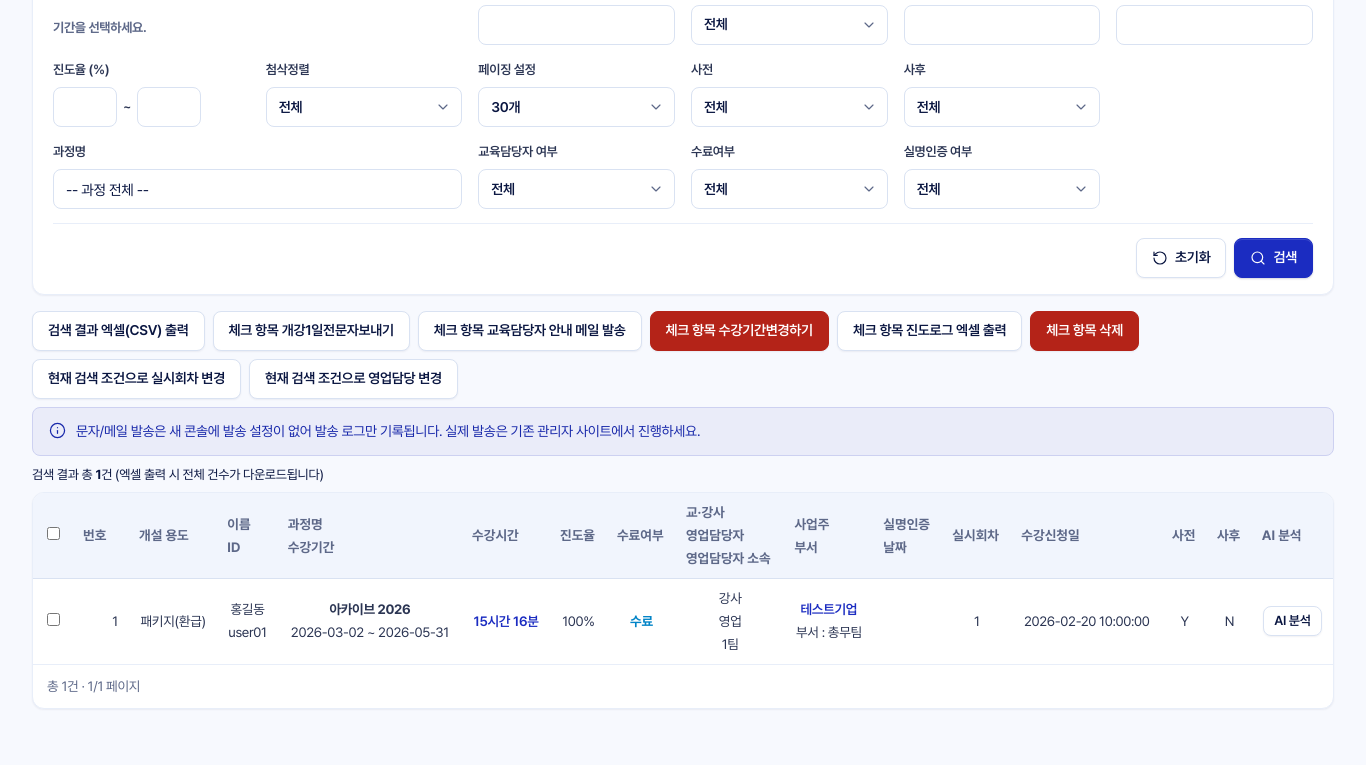
it: 학습관리 verifier fix-ups › 사업주 click opens company_info_pop (B5 endpoint) for an account without A1 — card, 수강 정보, masked 수강생 정보, no company-page link
(page scrolled)
Click the button "테스트기업" at (829, 610), box [800,598,857,621]
(page scrolled)
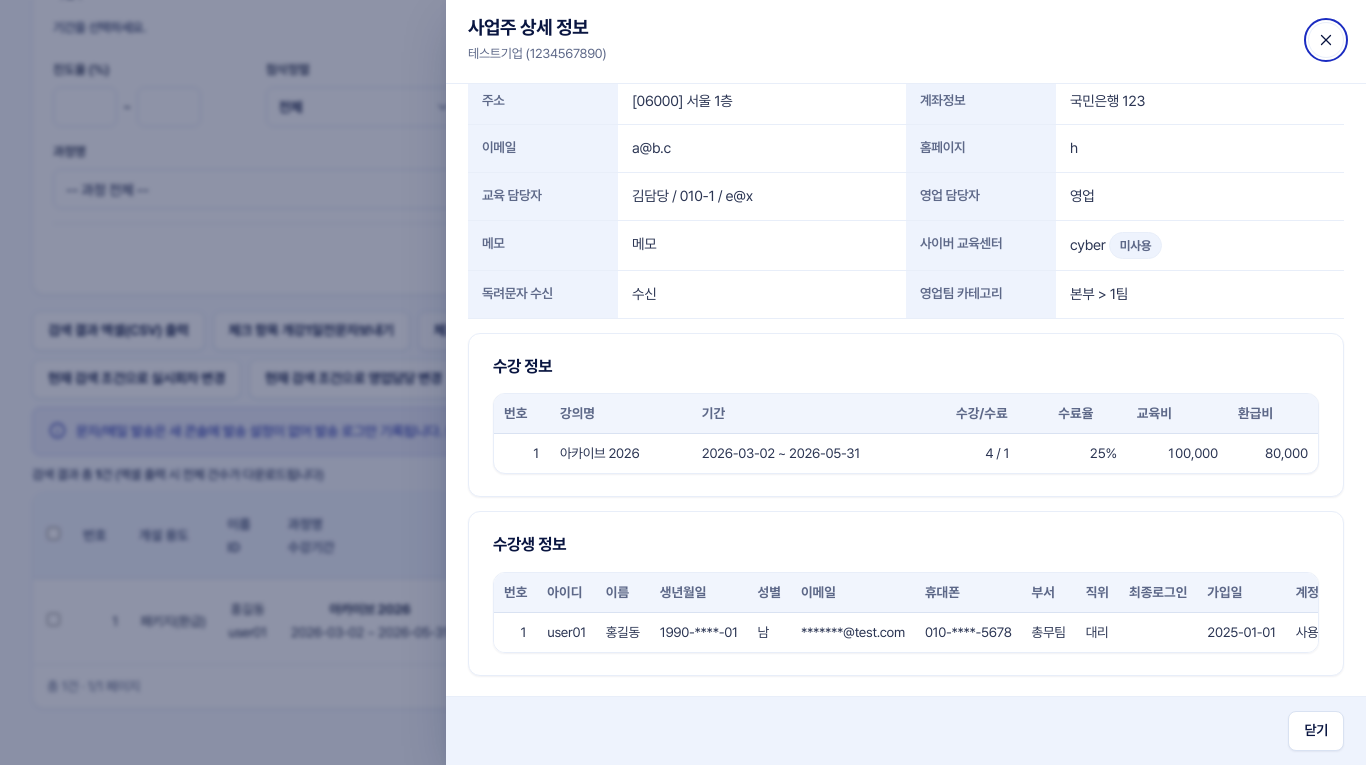
Expected: the text "본부 > 1팀" is shown, [1056,271,1344,319]
Expected: the text "교육 담당자" is shown, [468,173,618,221]
Expected: the text "독려문자 수신" is shown, [468,271,618,319]
